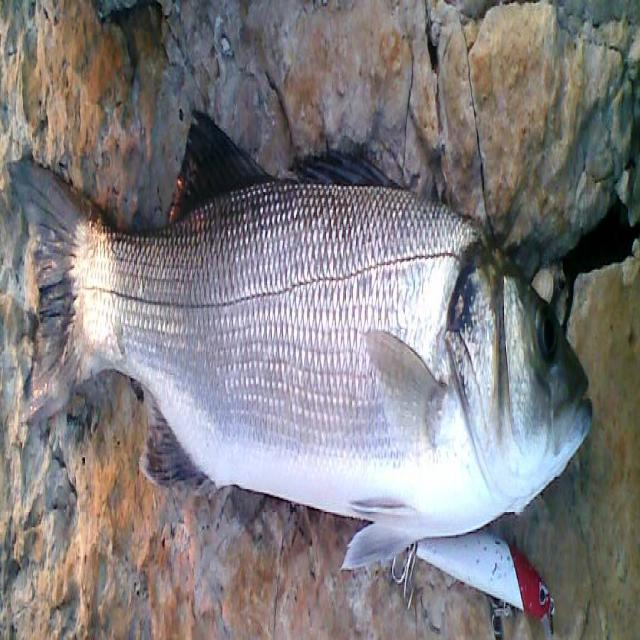Healthy Fish: (2, 143, 602, 564)
